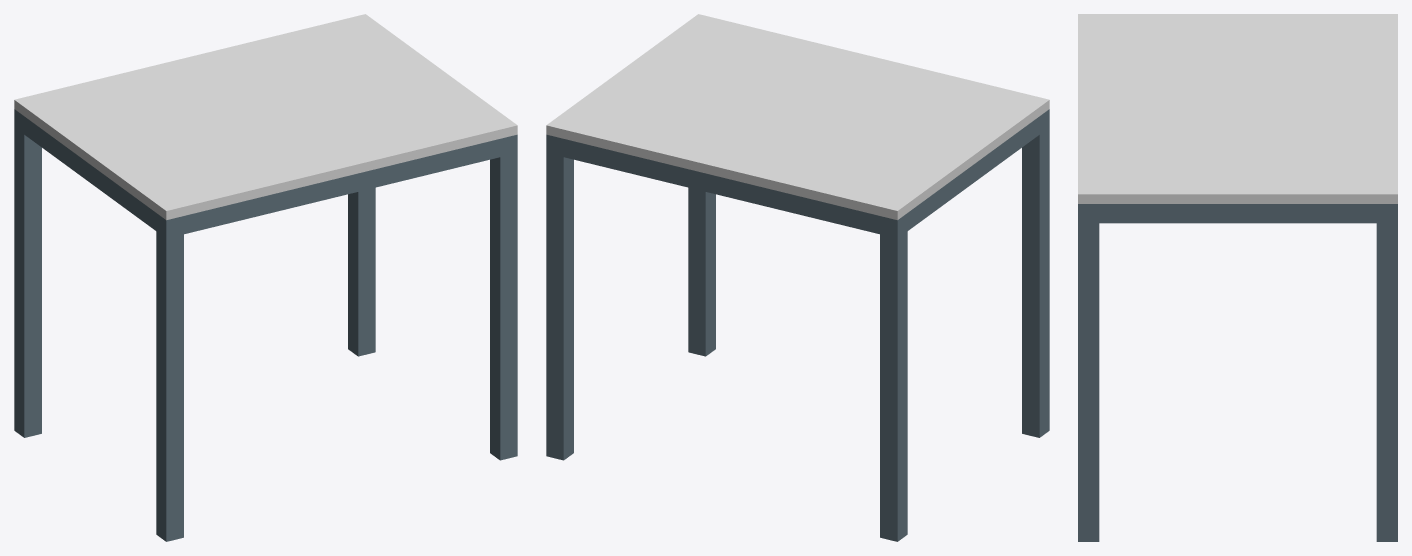
File: small_table_white.glb
3 views of the same model, side by side, from view 1: azimuth 30°, elevation 25°; view 2: azimuth 150°, elevation 25°; view 3: azimuth 270°, elevation 25° (orthographic). The views are drawn at different scales.
Visible parts, largest first — view 1: Cube, Cube.004, Cube.003, Cube.002, Cube.008, Cube.001, Cube.007; view 2: Cube, Cube.002, Cube.001, Cube.004, Cube.006, Cube.003, Cube.007; view 3: Cube, Cube.001, Cube.003, Cube.005.
Boxes of the visible parts, box(x1,y1,x2,y2) form: Cube: box(14, 14, 517, 220); Cube.004: box(156, 213, 183, 541); Cube.003: box(490, 134, 517, 460); Cube.002: box(14, 109, 41, 437); Cube.008: box(184, 139, 500, 234); Cube.001: box(348, 187, 375, 356); Cube.007: box(24, 116, 156, 230); Cube: box(546, 14, 1049, 220); Cube.002: box(880, 213, 907, 541); Cube.001: box(546, 134, 573, 460); Cube.004: box(1022, 109, 1049, 437); Cube.006: box(563, 139, 879, 234); Cube.003: box(688, 187, 715, 356); Cube.007: box(907, 116, 1039, 230); Cube: box(1078, 14, 1397, 203); Cube.001: box(1376, 204, 1397, 541); Cube.003: box(1078, 204, 1099, 541); Cube.005: box(1099, 204, 1376, 223).
Bounding box in the file's own units: 0.8 × 0.72 × 0.6.
